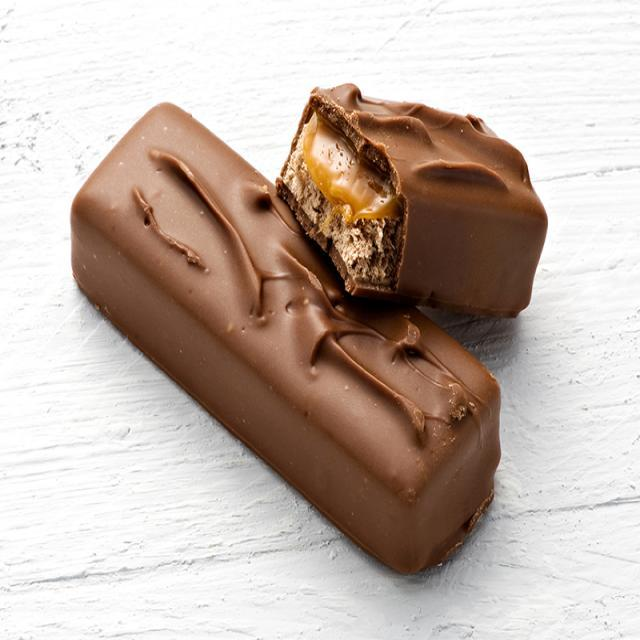Chocolate bar packaged: (69, 101, 503, 582), (274, 75, 553, 327)
